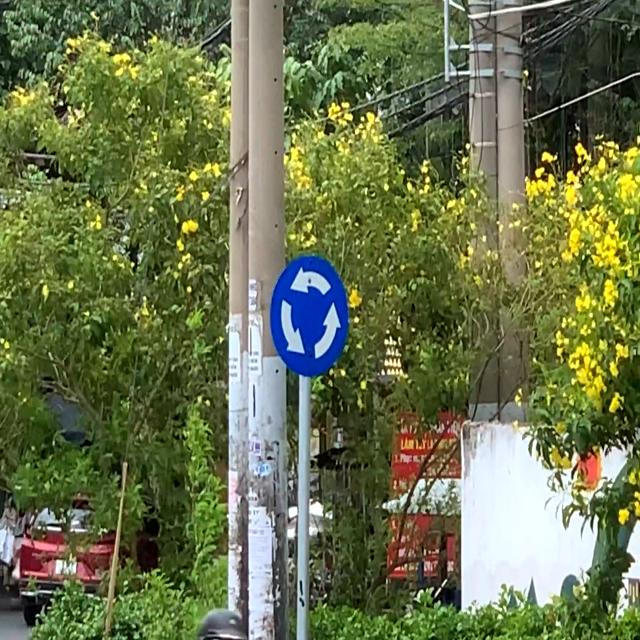R.303: (270, 254, 348, 380)
